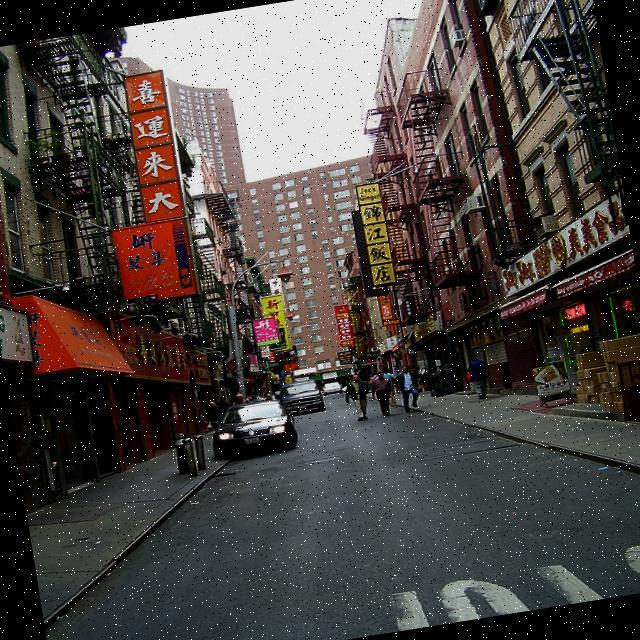fire_hydrant: (172, 431, 190, 475)
